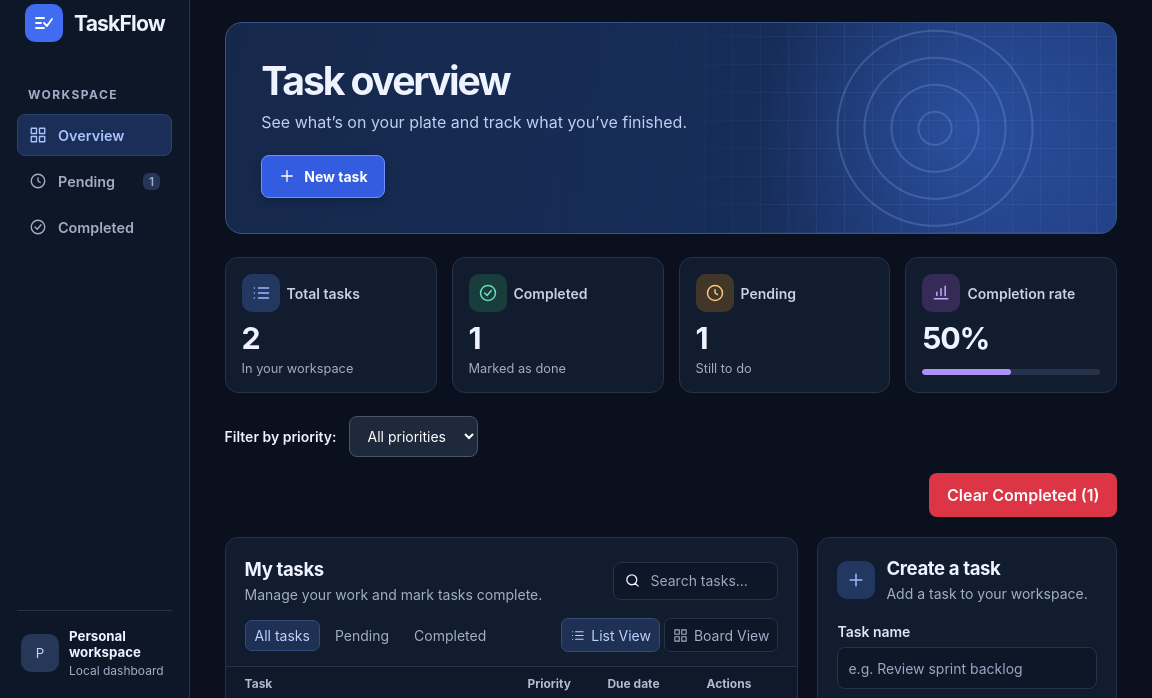
Test case: TaskFlow › changes status with the picker, restores focus, and keeps moves after reload
The width and height of the screenshot is (1152, 698).
Earlier steps of the test are not shown.
(page scrolled)
Step 1. Click the button "Board View" → (721, 635), box [664,618,778,652]
(page scrolled)
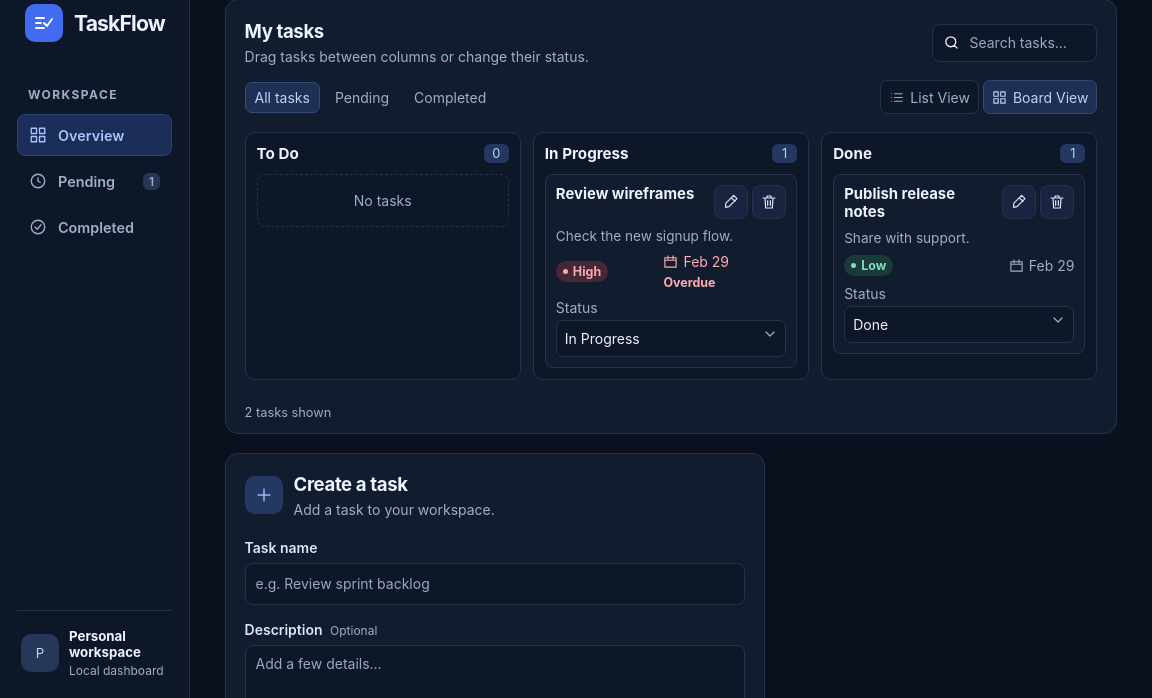
Expected: the heading "Review wireframes" is shown, [556,185,706,203]
Step 2. Select "Done" in the dropdown named "Status: Review wireframes" → (671, 339), box [556,320,786,357]
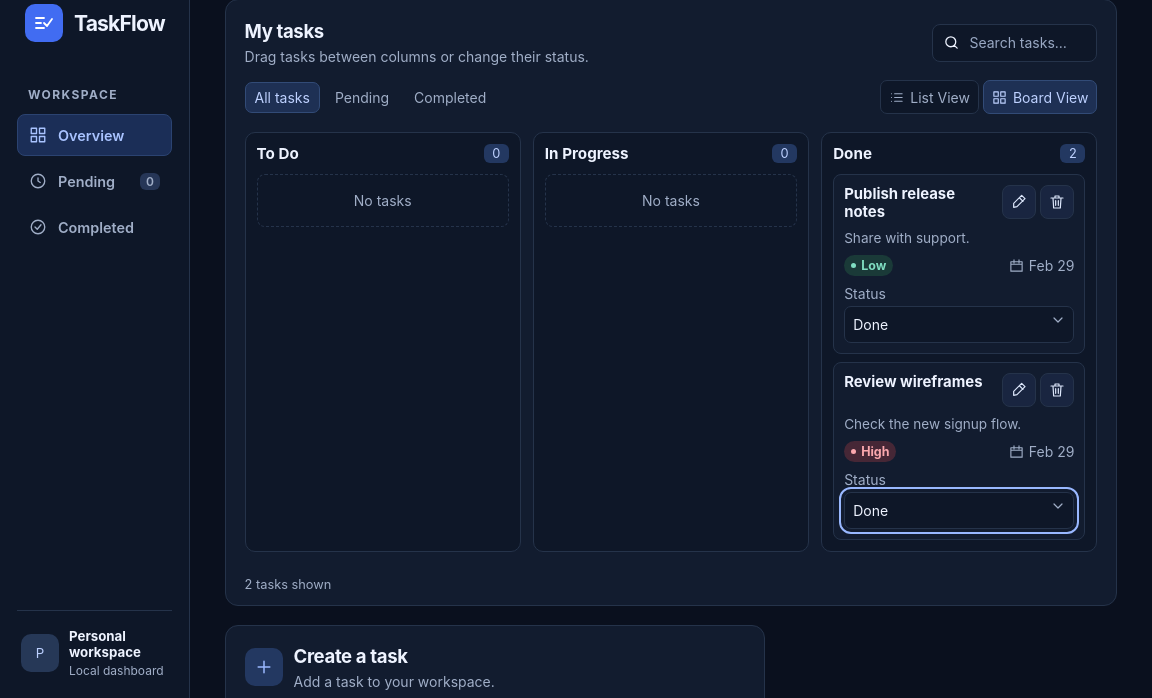
Step 3. Click the button "List View" → (930, 97), box [880,80,979,114]
(page scrolled)
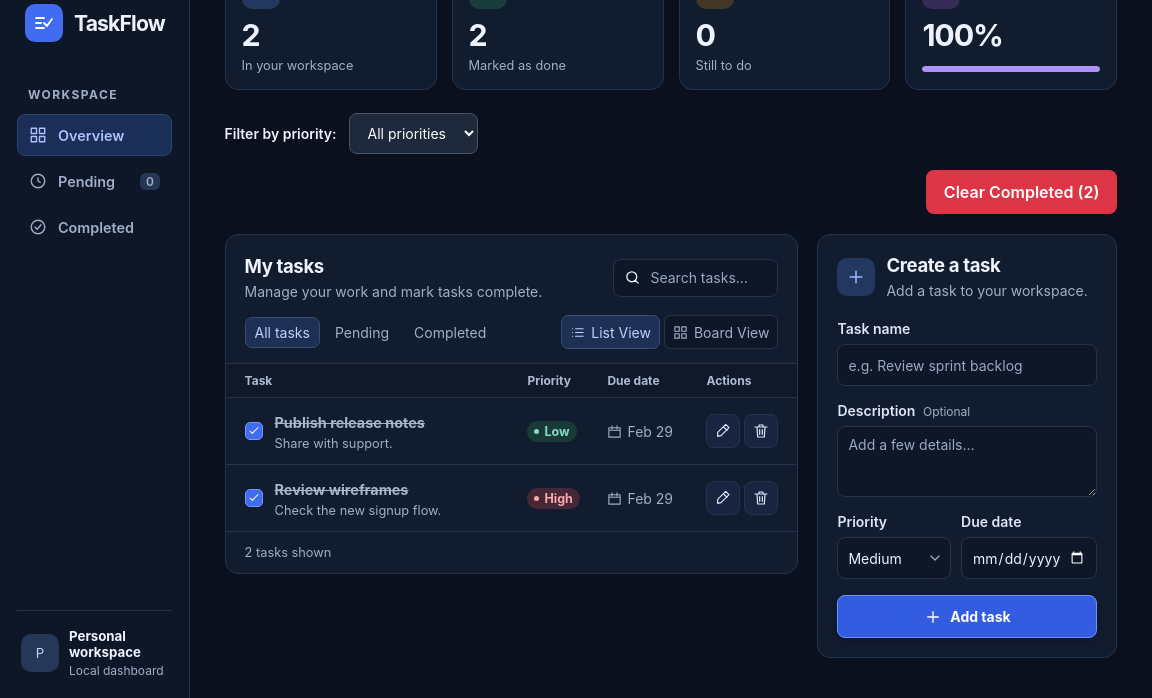
Now the checkbox named "Complete: Review wireframes" is checked, box [244,489,262,507]
